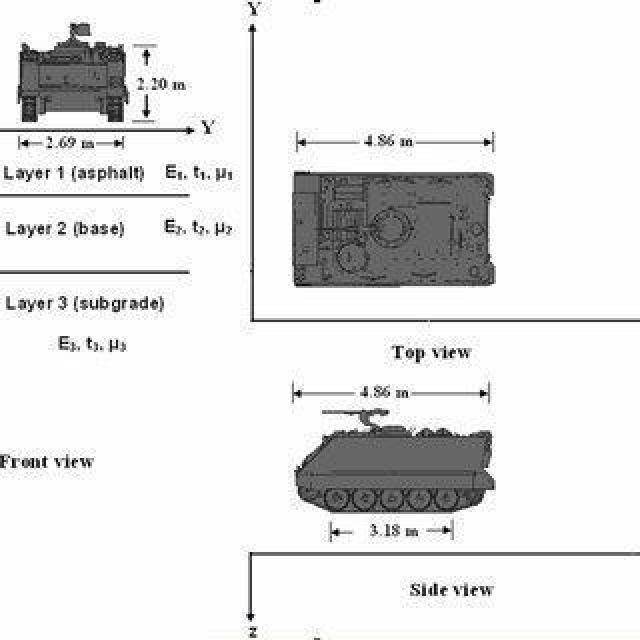Tanks: (289, 169, 519, 297), (296, 403, 510, 515), (12, 16, 132, 126)
